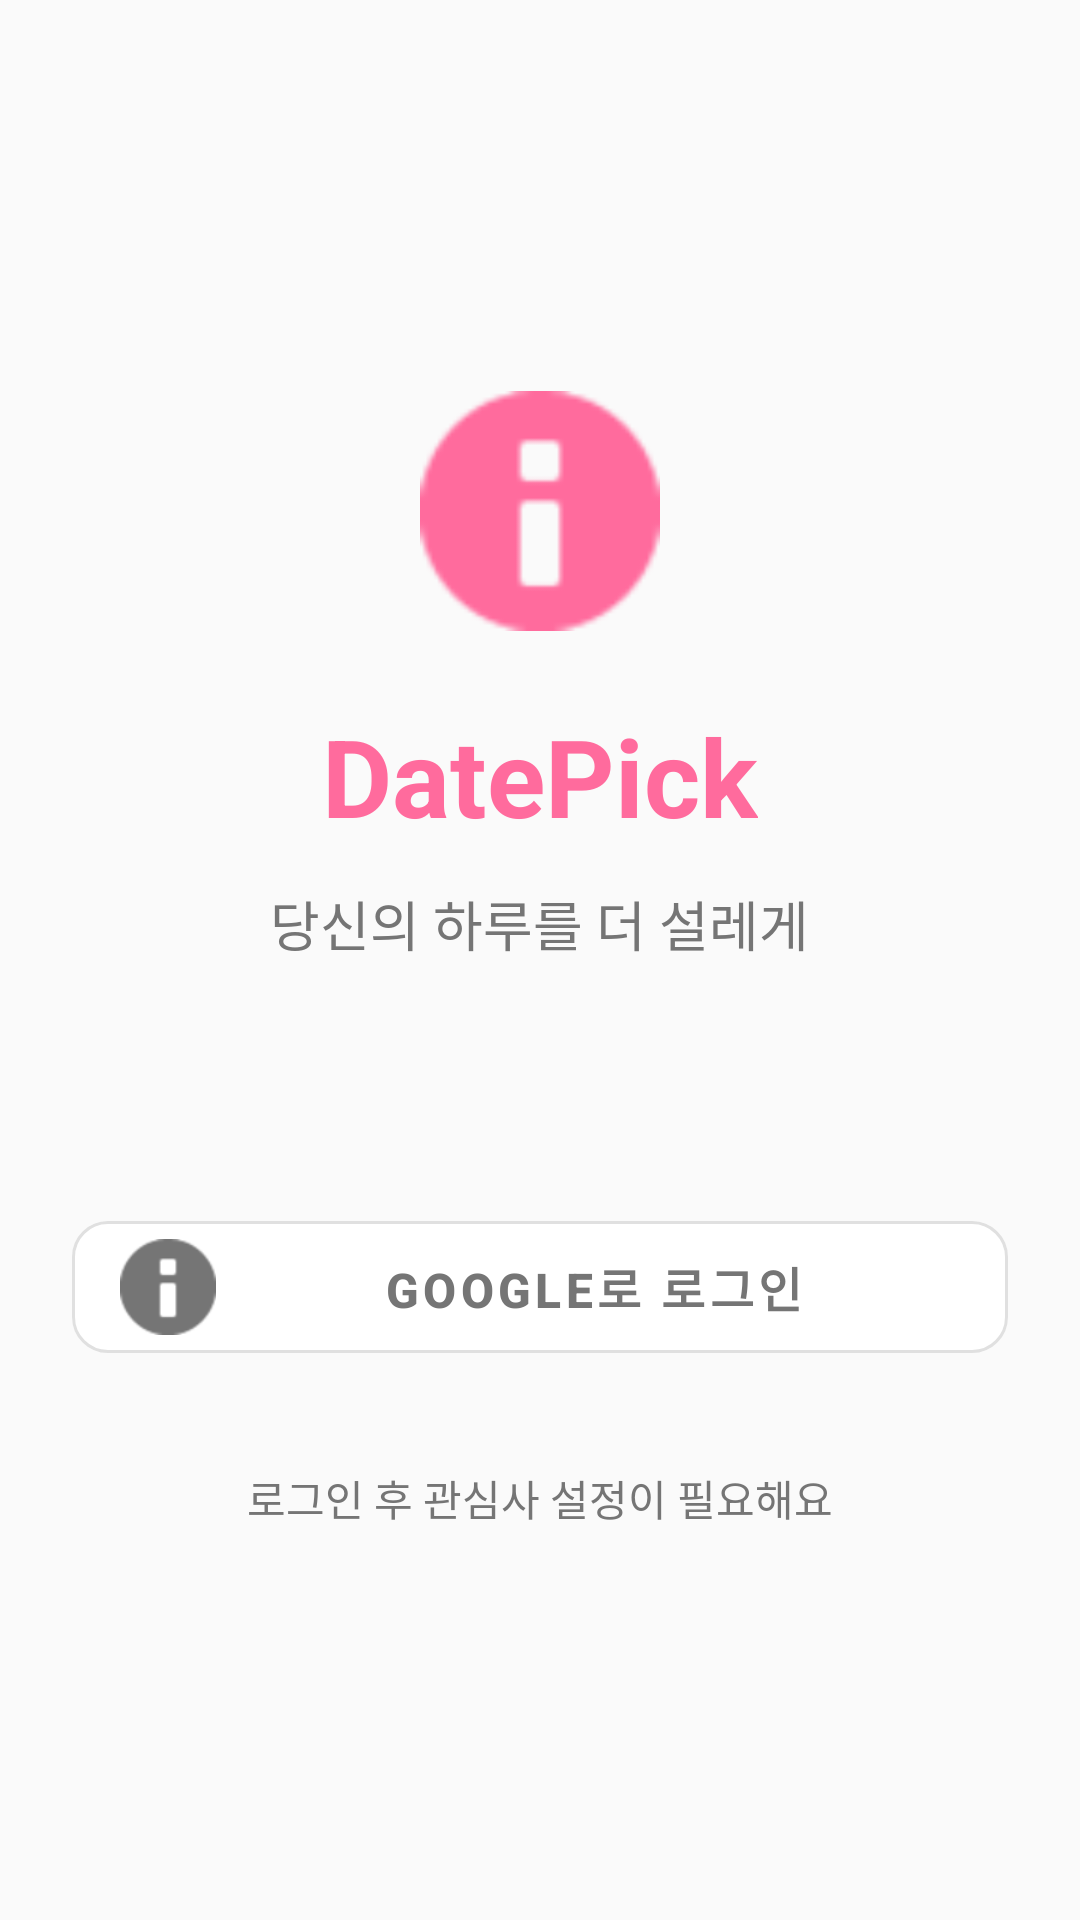

Screen size 1080 × 1920. Icon name, then its box in pixels as (x1, y1, x2, y2):
info: (420, 391, 660, 631)
